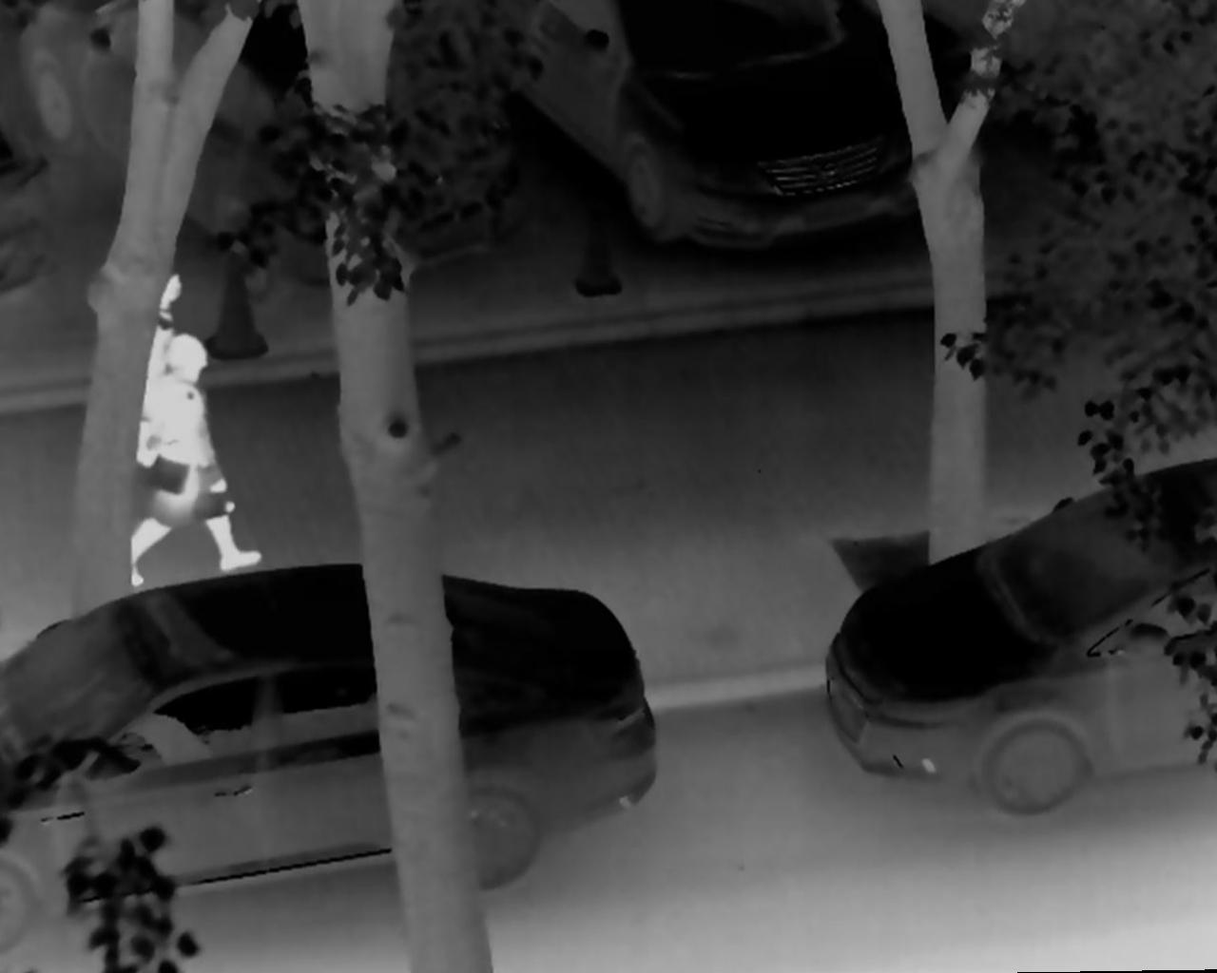person: (129, 334, 264, 584), (119, 255, 200, 471)
